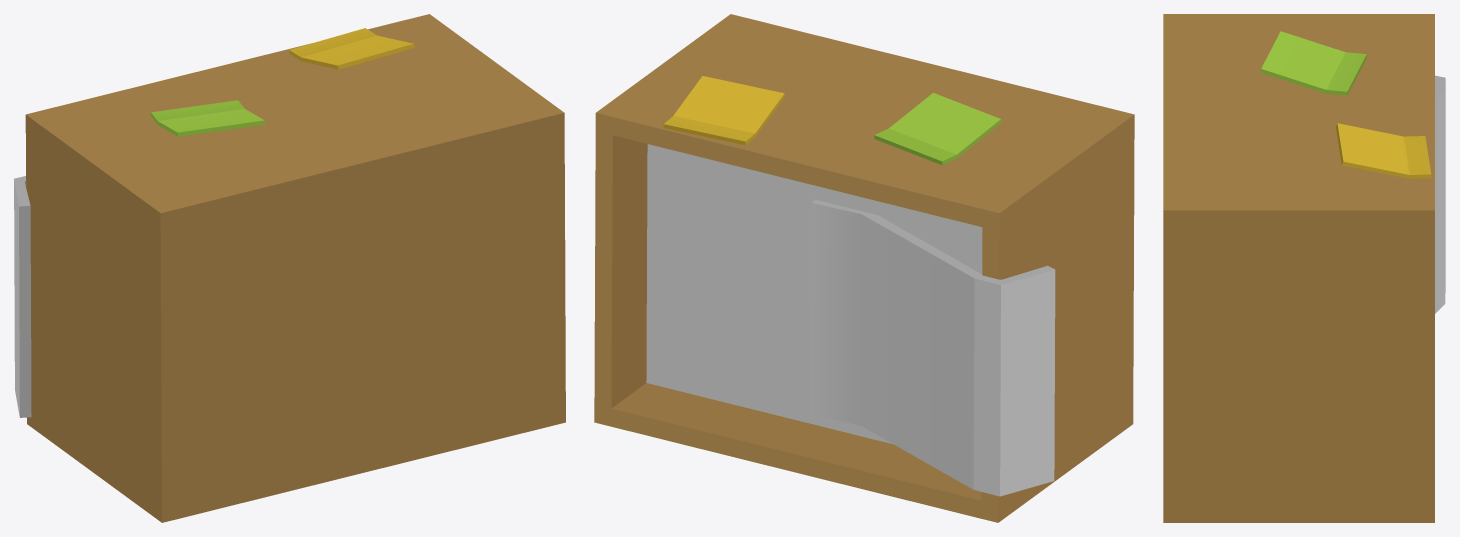
Rendered from BookBox2.glb.
3 views of the same model, side by side, from view 1: azimuth 30°, elevation 25°; view 2: azimuth 150°, elevation 25°; view 3: azimuth 270°, elevation 25° (orthographic).
Visible parts, largest first — view 1: SO_Bookbox_02; view 2: SO_Bookbox_02; view 3: SO_Bookbox_02.
Boxes of the visible parts, x1,y1,x2,y2 form: SO_Bookbox_02: (14, 14, 565, 522); SO_Bookbox_02: (594, 14, 1134, 522); SO_Bookbox_02: (1163, 14, 1445, 522).
Bounding box in the file's own units: 1.07 × 0.7767 × 0.597.
1 material, 1 textured.
